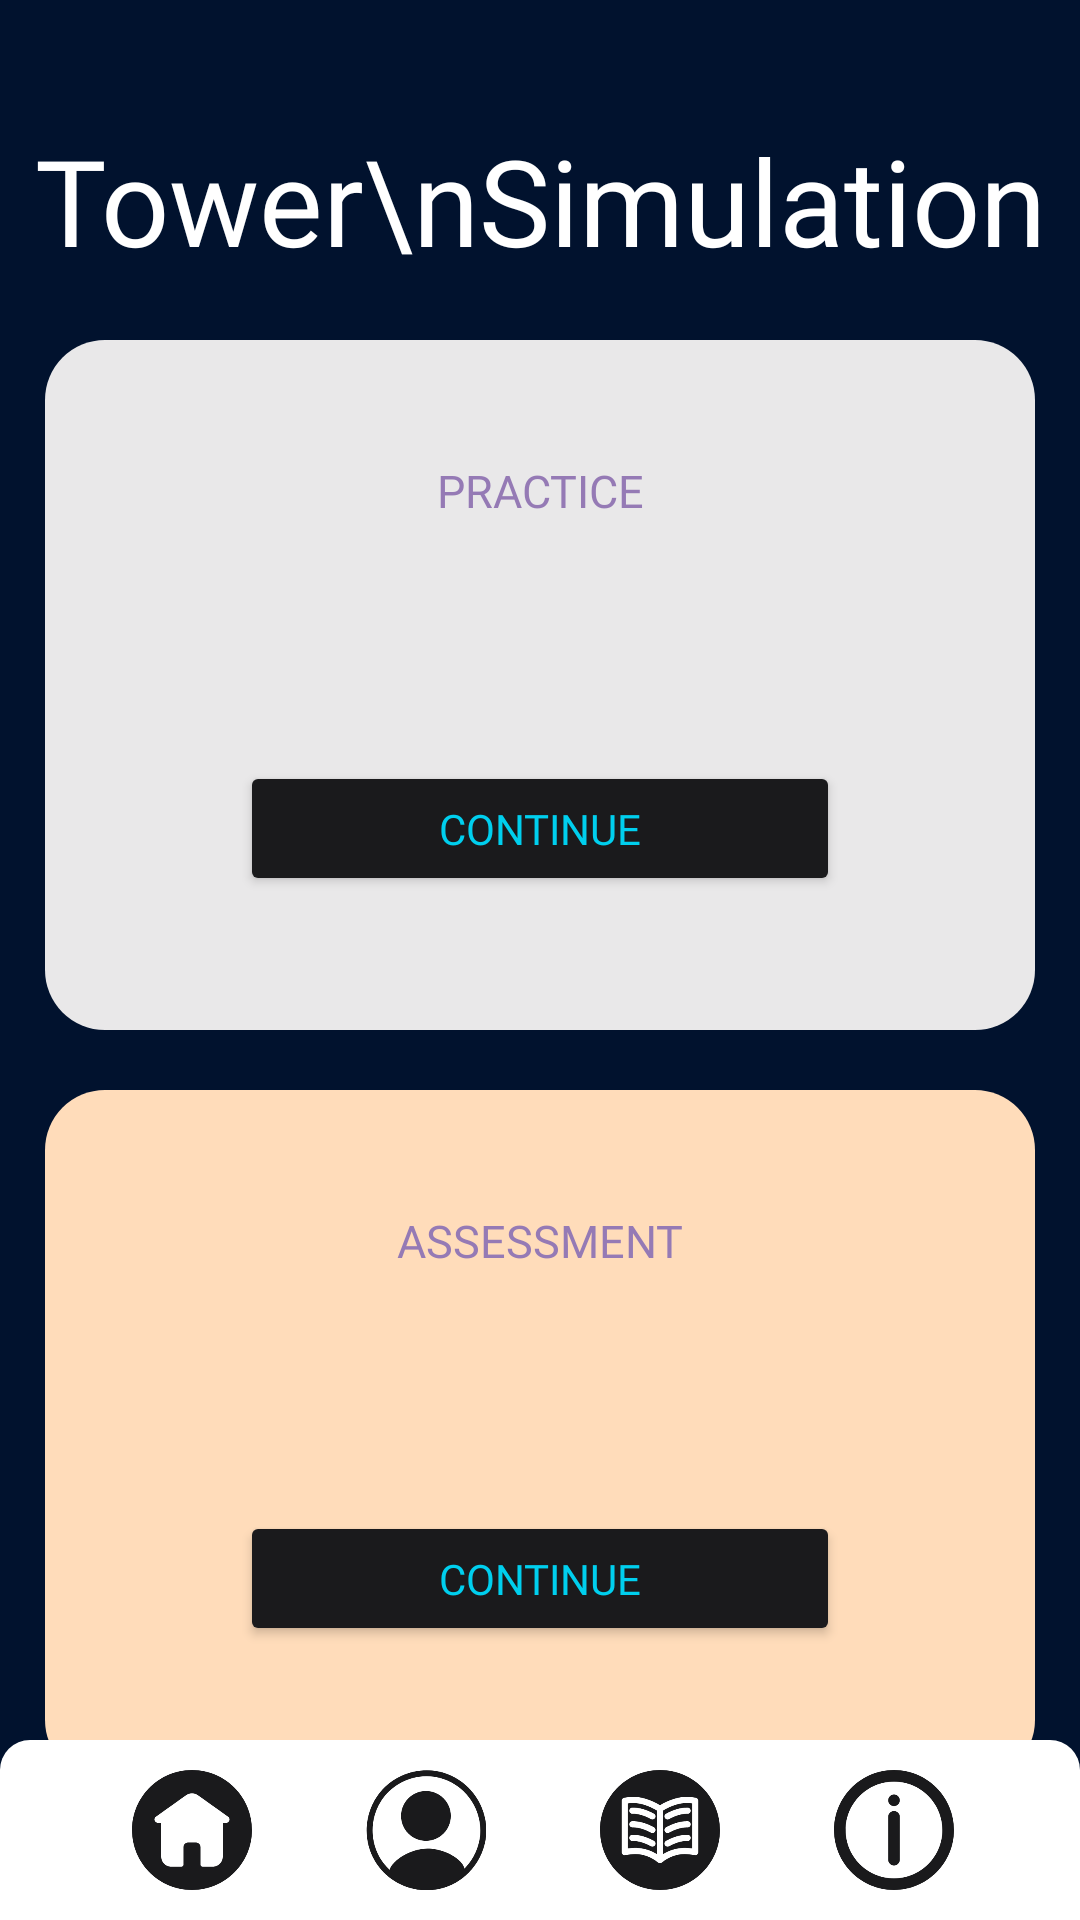

Named icons in this screenshot (1080×1920) and their bounding boxes, [left=x1, top=y1, right=x2, bottom=y2]:
home: [left=132, top=1770, right=252, bottom=1890]
info: [left=834, top=1770, right=954, bottom=1890]
note: [left=600, top=1770, right=720, bottom=1890]
profile: [left=366, top=1770, right=486, bottom=1890]
